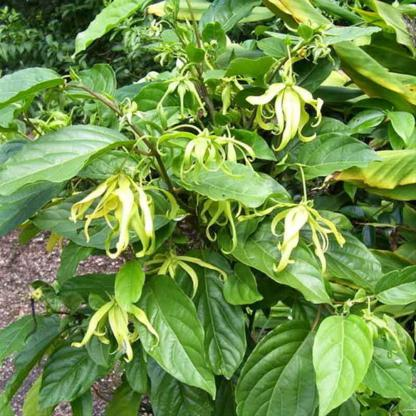Kenanga: (78, 172, 165, 239), (79, 295, 168, 357), (261, 62, 320, 141), (281, 192, 337, 250), (190, 124, 251, 173), (156, 254, 213, 290)
